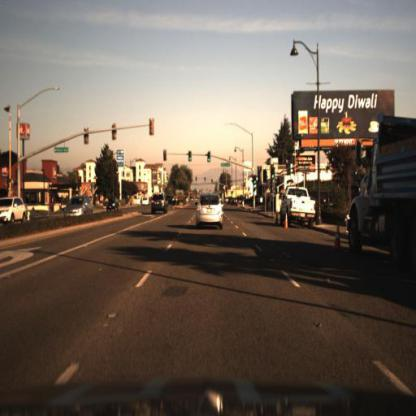car: (276, 186, 318, 237), (277, 185, 321, 227), (195, 190, 226, 231), (63, 195, 94, 225), (1, 195, 28, 228), (149, 194, 169, 218), (105, 194, 124, 214), (139, 195, 153, 208)
trafficLight-Green: (272, 167, 278, 184), (252, 177, 259, 190), (207, 152, 213, 166), (188, 152, 193, 167)
